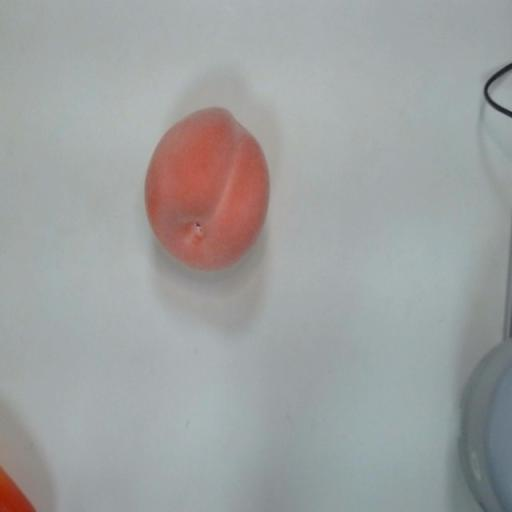Ripe: (144, 85, 284, 280)
